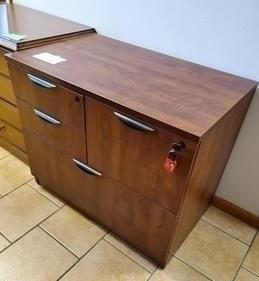cabinet_door: (22, 173, 176, 228), (89, 115, 189, 194), (14, 74, 84, 117), (15, 117, 86, 155)
handle: (112, 112, 157, 137), (71, 157, 103, 180), (34, 110, 63, 130), (26, 75, 58, 92)
